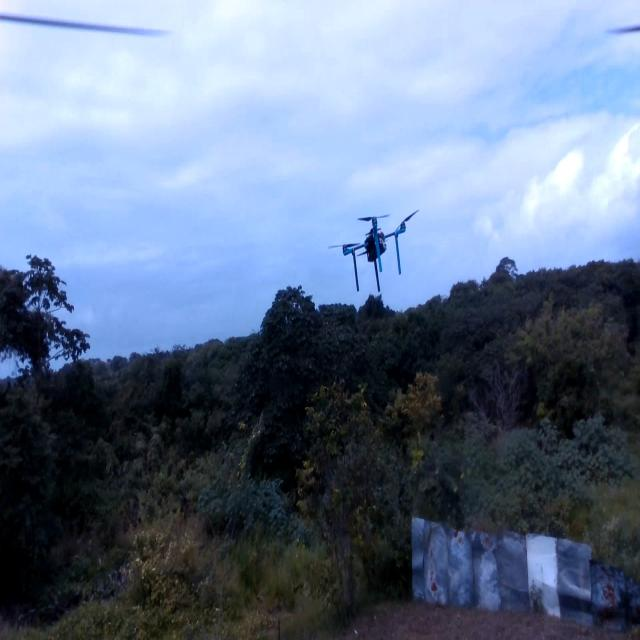-uav-: (322, 186, 426, 313)
